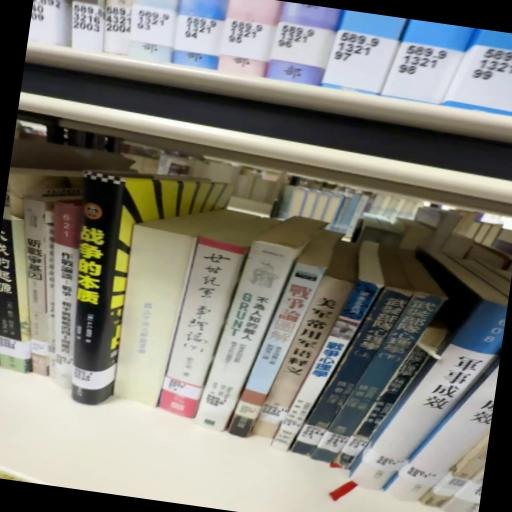backward: (115, 209, 255, 408)
book: (195, 211, 316, 444), (159, 237, 251, 427)
